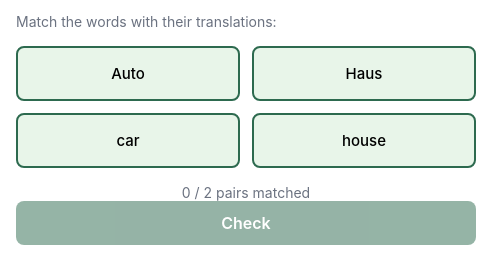
Test: Matching › allows tentative no-retry pairs to be deselected before checking
Click the button "Haus": (364, 74) left=252, top=46, right=476, bottom=101
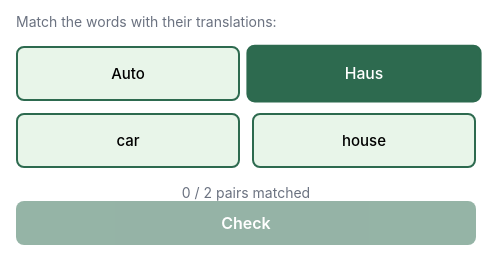
Click the button "car": (128, 140) left=16, top=113, right=240, bottom=168
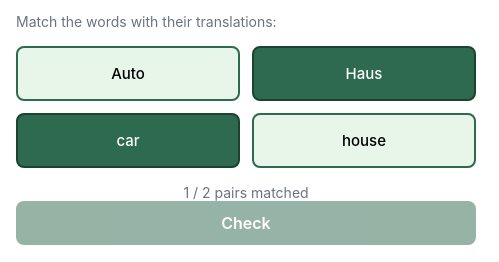
Now the text "1 / 2 pairs matched" is shown, box left=183, top=184, right=309, bottom=201
Click the button "Haus": (364, 74) left=252, top=46, right=476, bottom=101
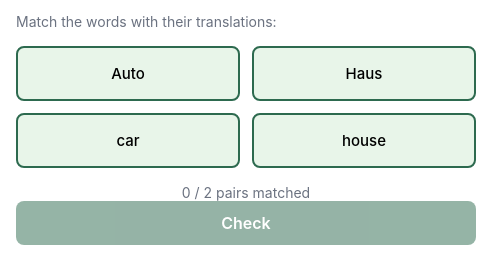
Now the text "0 / 2 pairs matched" is shown, box left=182, top=184, right=310, bottom=201
